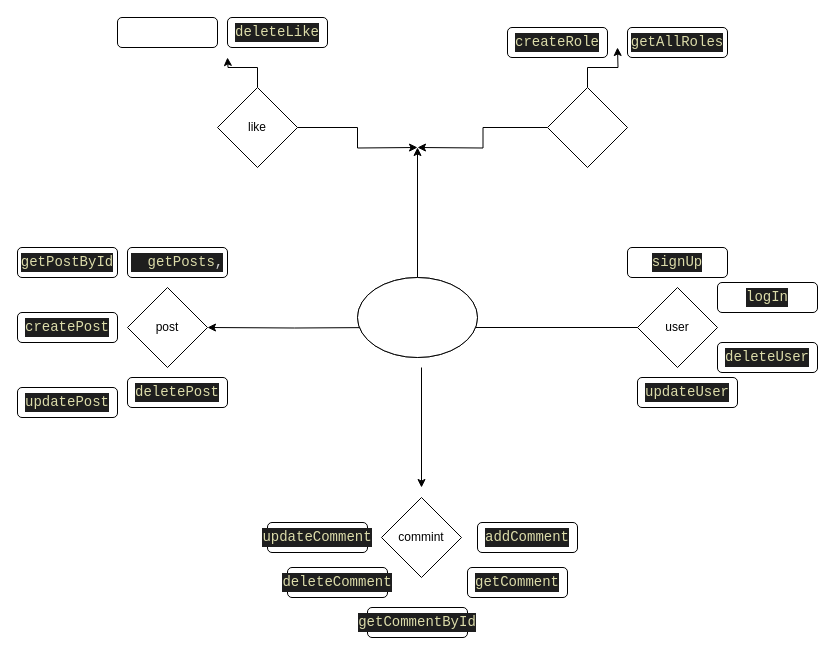
The diagram is 835 pixels wide and 655 high, and some of its shapes have lost their labels. Each missing label, with the box of its shape:
addLike: (116, 16, 218, 48)
role: (546, 86, 628, 168)
server: (356, 276, 478, 358)
